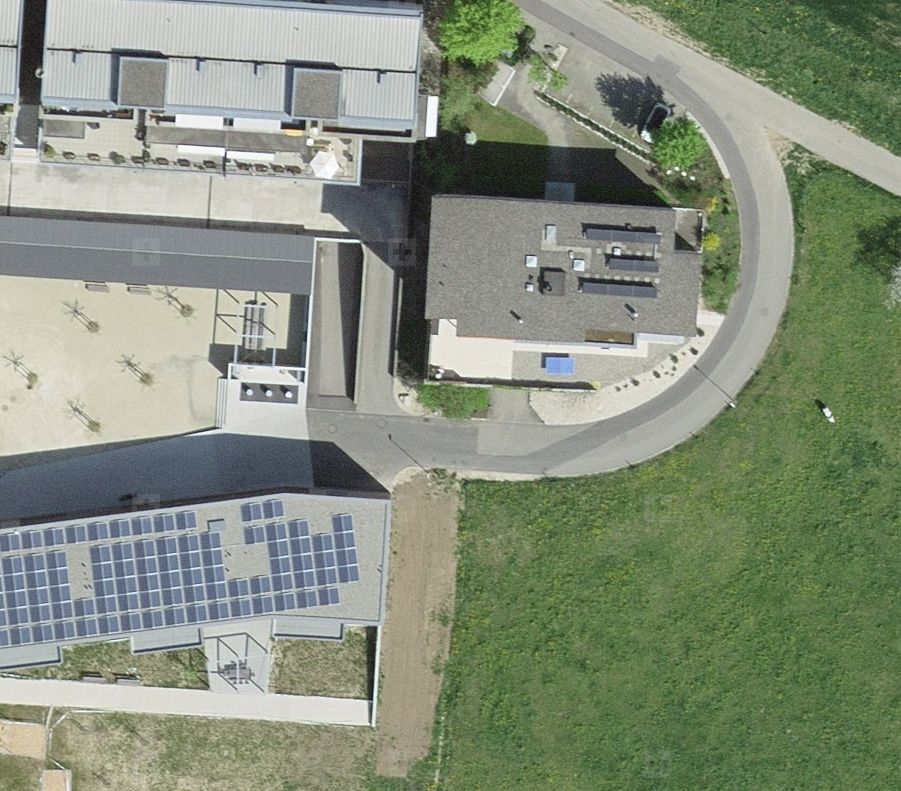solar: (1, 496, 363, 648), (563, 214, 669, 313), (570, 214, 666, 253), (574, 273, 666, 305), (595, 247, 663, 278)
